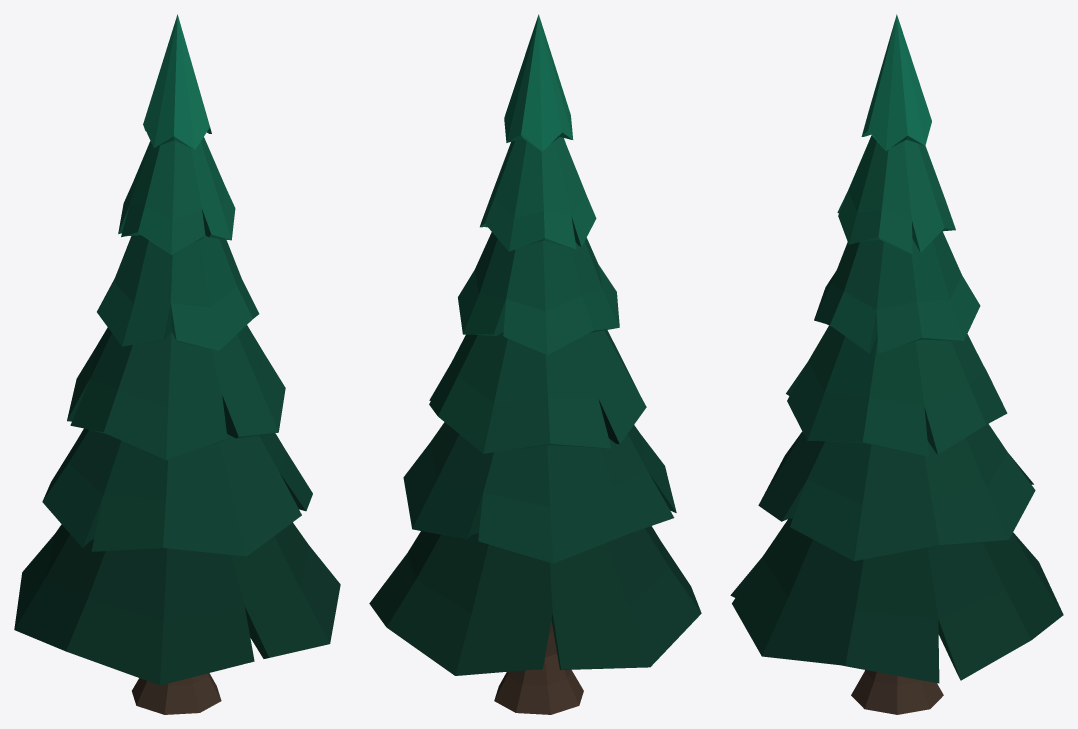
The model's file is SmallSpruce.fbx.
3 views of the same model, side by side, from view 1: azimuth 30°, elevation 25°; view 2: azimuth 150°, elevation 25°; view 3: azimuth 270°, elevation 25° (orthographic).
Visible parts, largest first — view 1: Cylinder.001; view 2: Cylinder.001; view 3: Cylinder.001.
Part boxes in pixels (x1=…): Cylinder.001: x1=14, y1=14, x2=340, y2=714; Cylinder.001: x1=369, y1=14, x2=701, y2=714; Cylinder.001: x1=730, y1=14, x2=1063, y2=714.
Bounding box in the file's own units: 128 × 301 × 134.
